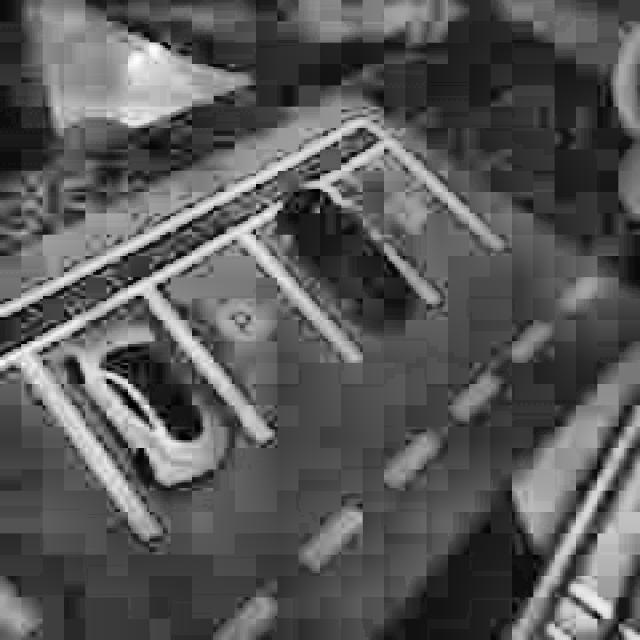car: (61, 307, 238, 496), (270, 177, 421, 336)
